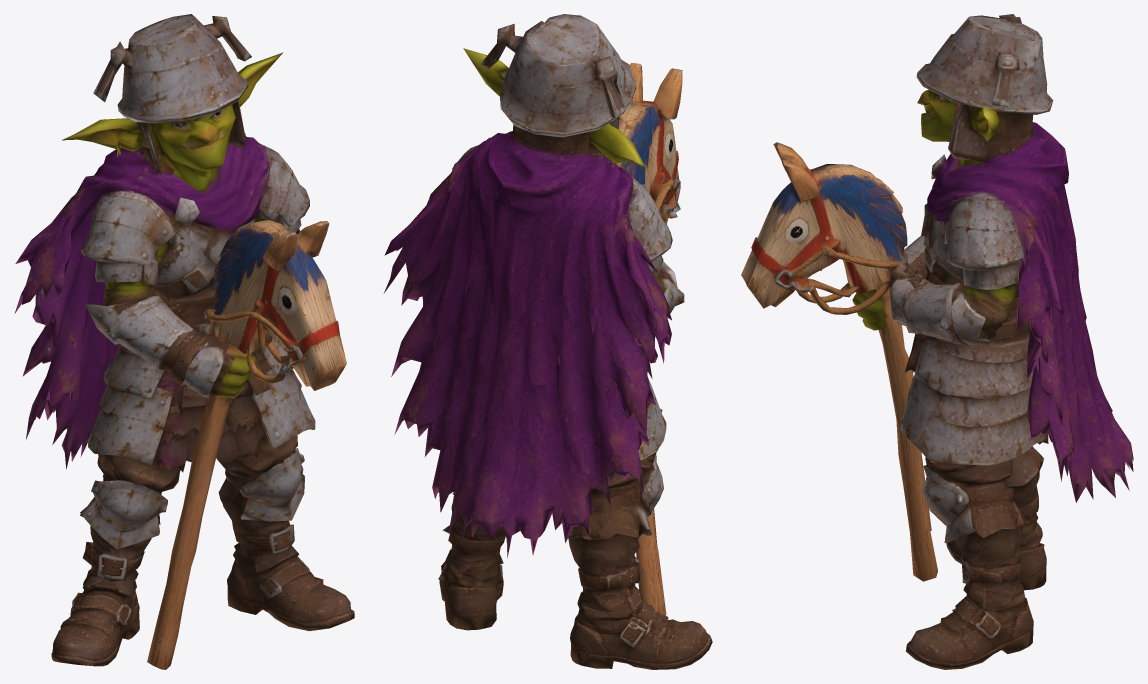
File: hobby-knight.glb
3 renders of one model, left to right at view 1: azimuth 30°, elevation 25°; view 2: azimuth 150°, elevation 25°; view 3: azimuth 270°, elevation 25°, orthographic. The views are drawn at different scales.
Parts seen in each view (by area): view 1: tripo_node_2f0e364b-dd75-4a96-b5ee-0b01f6a92b43; view 2: tripo_node_2f0e364b-dd75-4a96-b5ee-0b01f6a92b43; view 3: tripo_node_2f0e364b-dd75-4a96-b5ee-0b01f6a92b43.
Part boxes in pixels (box(x1,y1,x2,y2)): tripo_node_2f0e364b-dd75-4a96-b5ee-0b01f6a92b43: box(14, 14, 354, 669); tripo_node_2f0e364b-dd75-4a96-b5ee-0b01f6a92b43: box(383, 14, 712, 669); tripo_node_2f0e364b-dd75-4a96-b5ee-0b01f6a92b43: box(741, 14, 1133, 669).
Size of the model in its own units: 0.4787 by 0.9987 by 0.6095.
Materials: 1 (1 with a texture image).
